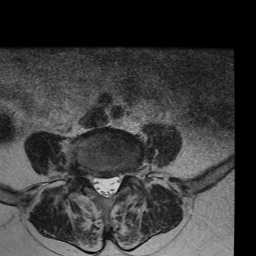CCS_normal: (102, 168, 110, 204)
LFS_severe_stenosis: (121, 162, 130, 185)
LLS_normal: (110, 169, 121, 199)
RFS_severe_stenosis: (81, 159, 93, 185)
RLS_normal: (93, 168, 102, 199)
